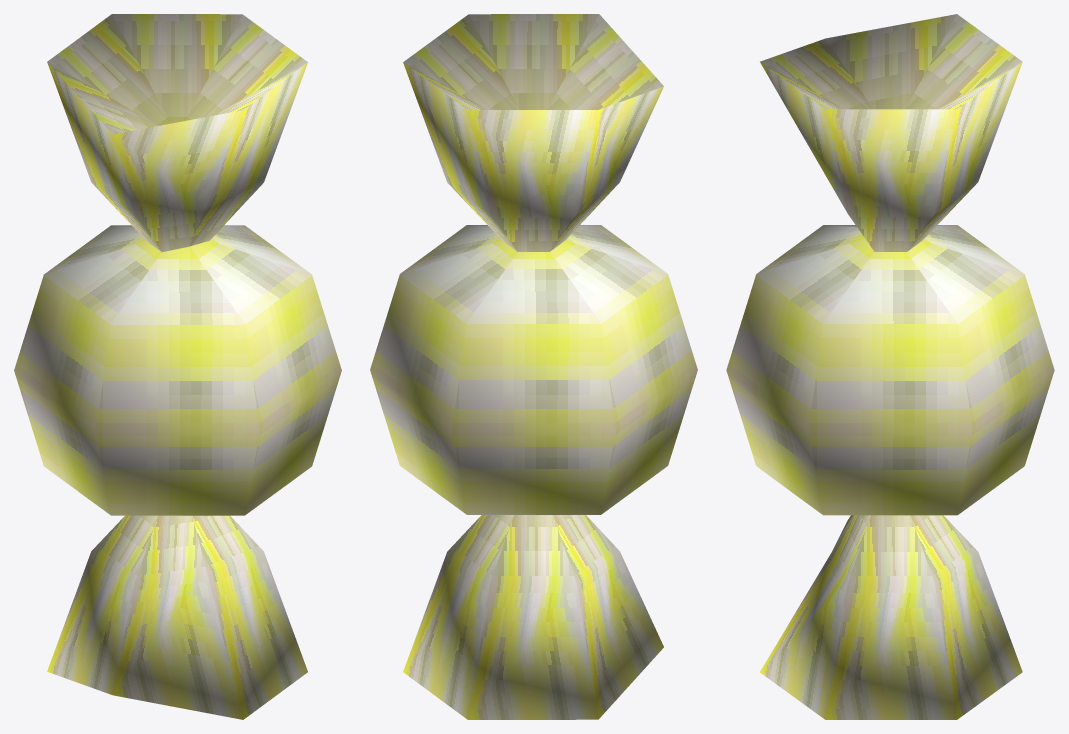
The model's file is hcandyyellow.glb.
The picture shows the model from 3 angles, left to right: view 1: azimuth 30°, elevation 25°; view 2: azimuth 150°, elevation 25°; view 3: azimuth 270°, elevation 25°; orthographic projection.
Parts seen in each view (by area): view 1: model_hcandyyellow; view 2: model_hcandyyellow; view 3: model_hcandyyellow.
Boxes of the visible parts, <box> form: model_hcandyyellow: <box>14,14,341,719</box>; model_hcandyyellow: <box>370,14,697,719</box>; model_hcandyyellow: <box>726,14,1054,719</box>.
Bounding box in the file's own units: 0.1435 × 0.3399 × 0.1657.
1 material, 1 textured.
